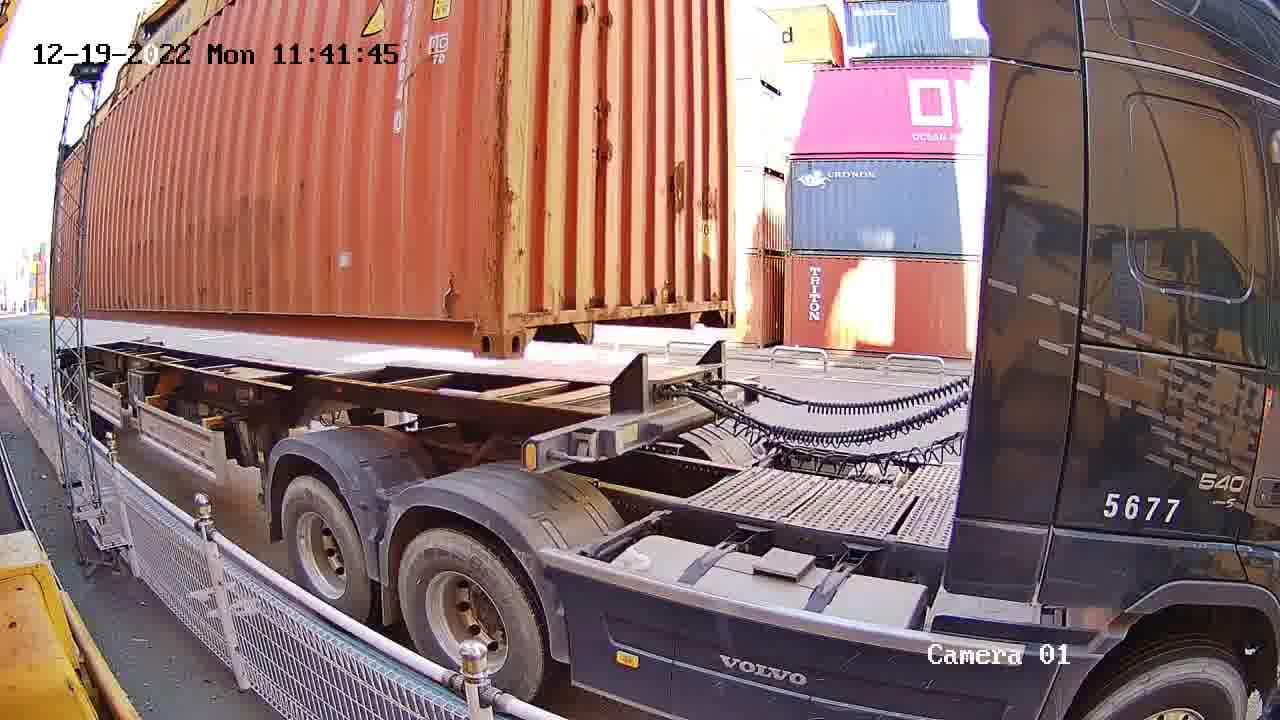Chassis: (521, 378, 757, 471)
Hole_L: (504, 305, 549, 356)
Hole_R: (449, 305, 501, 356), (700, 283, 736, 328)
Tire: (399, 532, 540, 693), (283, 477, 366, 617)
